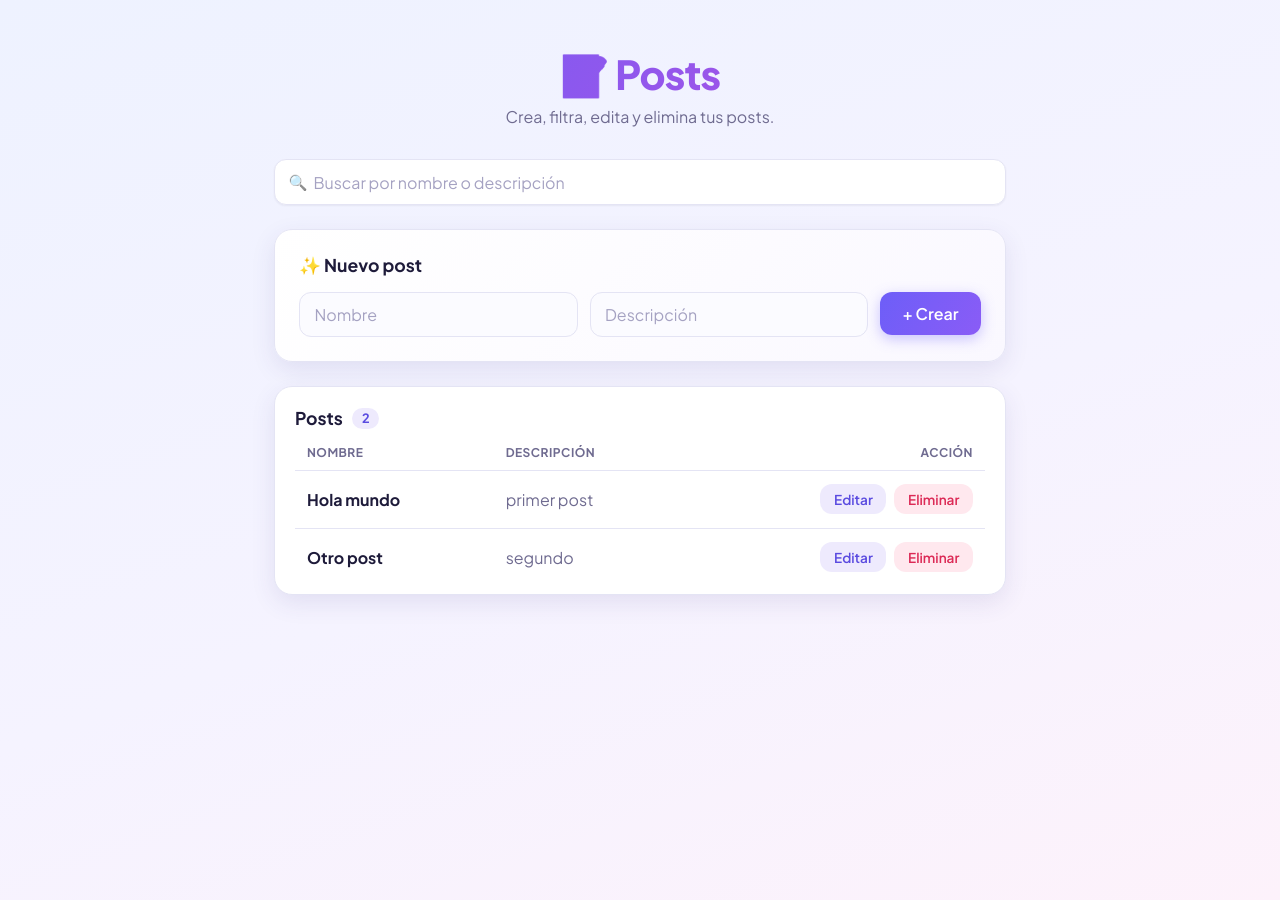
Test: App › deletes a post after confirming in the modal
The image size is (1280, 900).
Check: the text "Hola mundo" is shown, box [295,470,494,529]
Step 1. Click the button "Eliminar" in the row of "Hola mundo" → coordinates (934, 499), box [894,484,973,514]
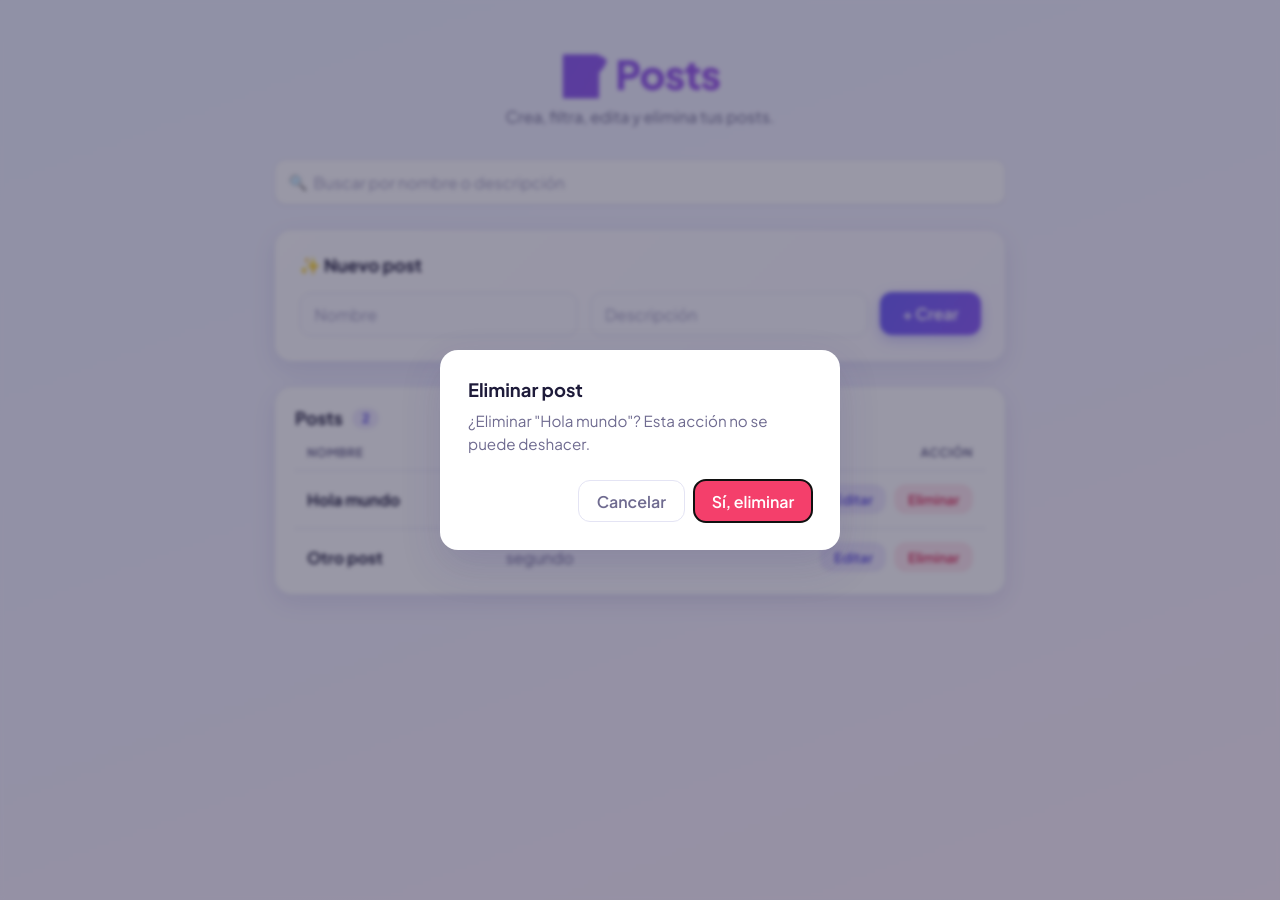
Check: the text "Hola mundo" is shown, box [295,470,494,529]
Check: the dialog shows "Hola mundo", box [468,411,768,453]
Step 2. Click the button "Sí, eliminar" → coordinates (753, 501), box [694,480,812,522]
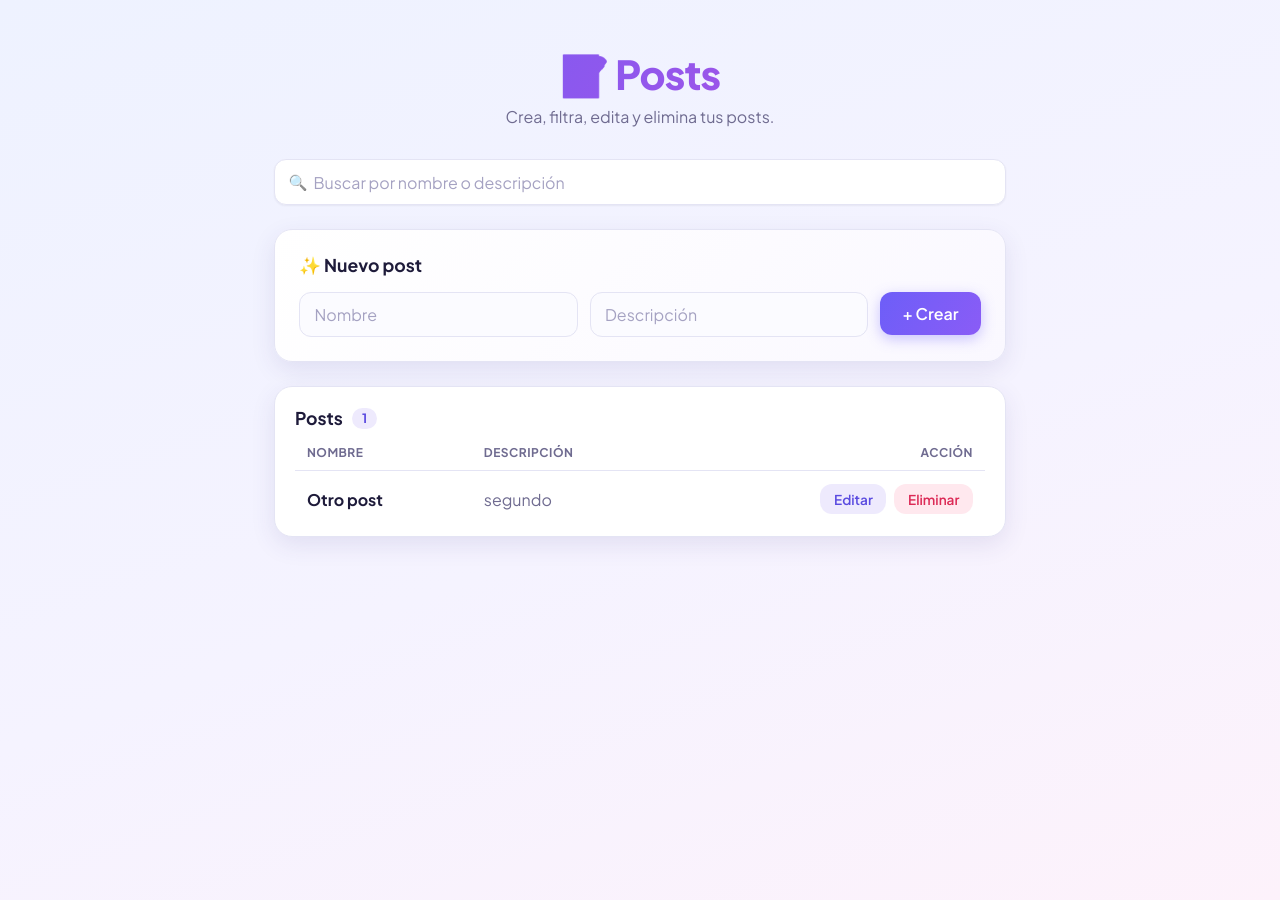
Check: the text "Hola mundo" is gone
